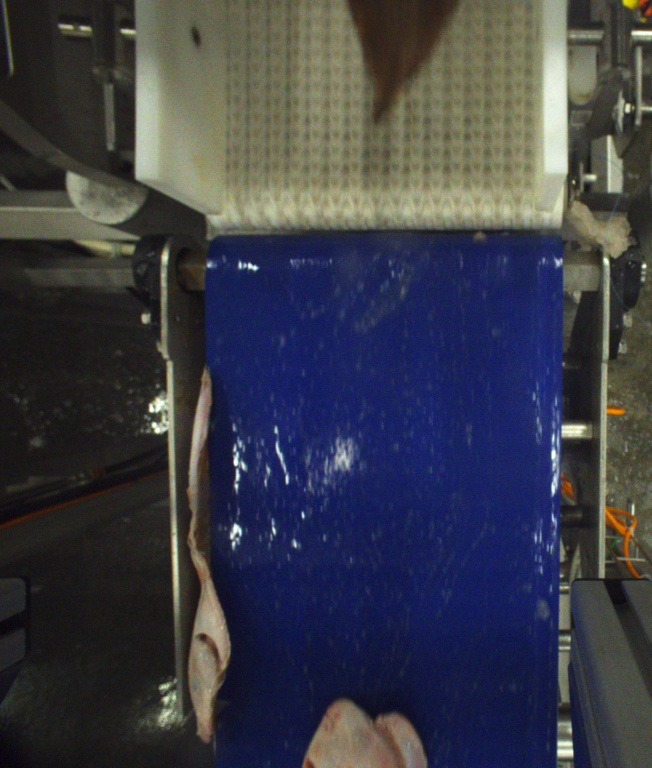SOL: (345, 0, 458, 119)
